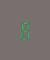eight: (19, 20, 29, 40)
